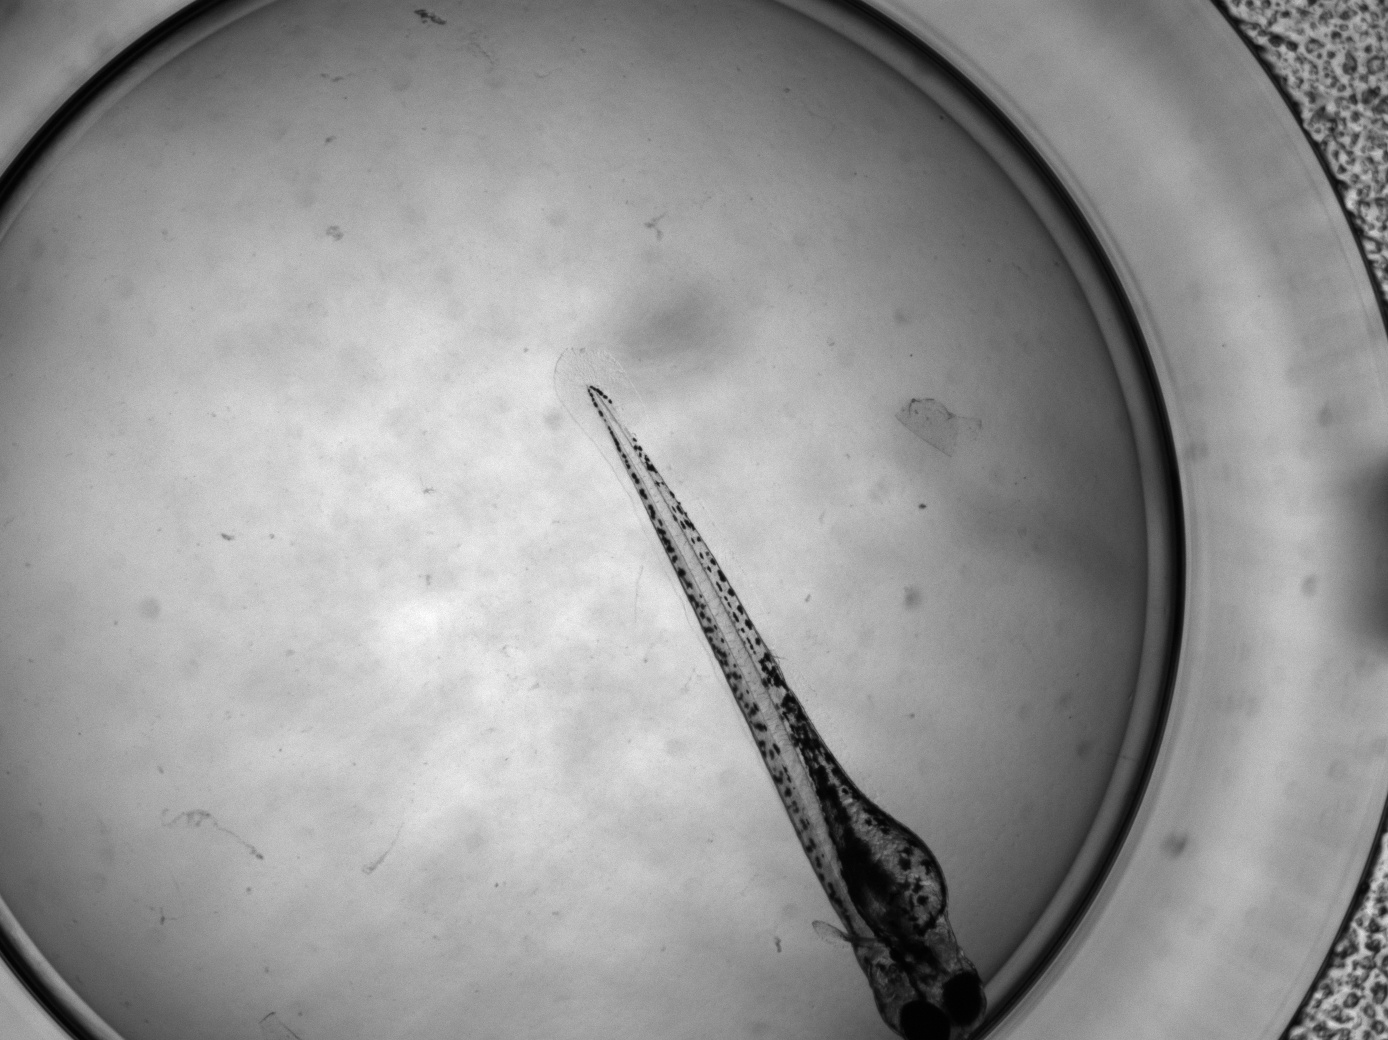embryo: (585, 385, 990, 1040)
eye: (941, 971, 983, 1027), (901, 1000, 951, 1040)
yolksac: (840, 819, 947, 939)
